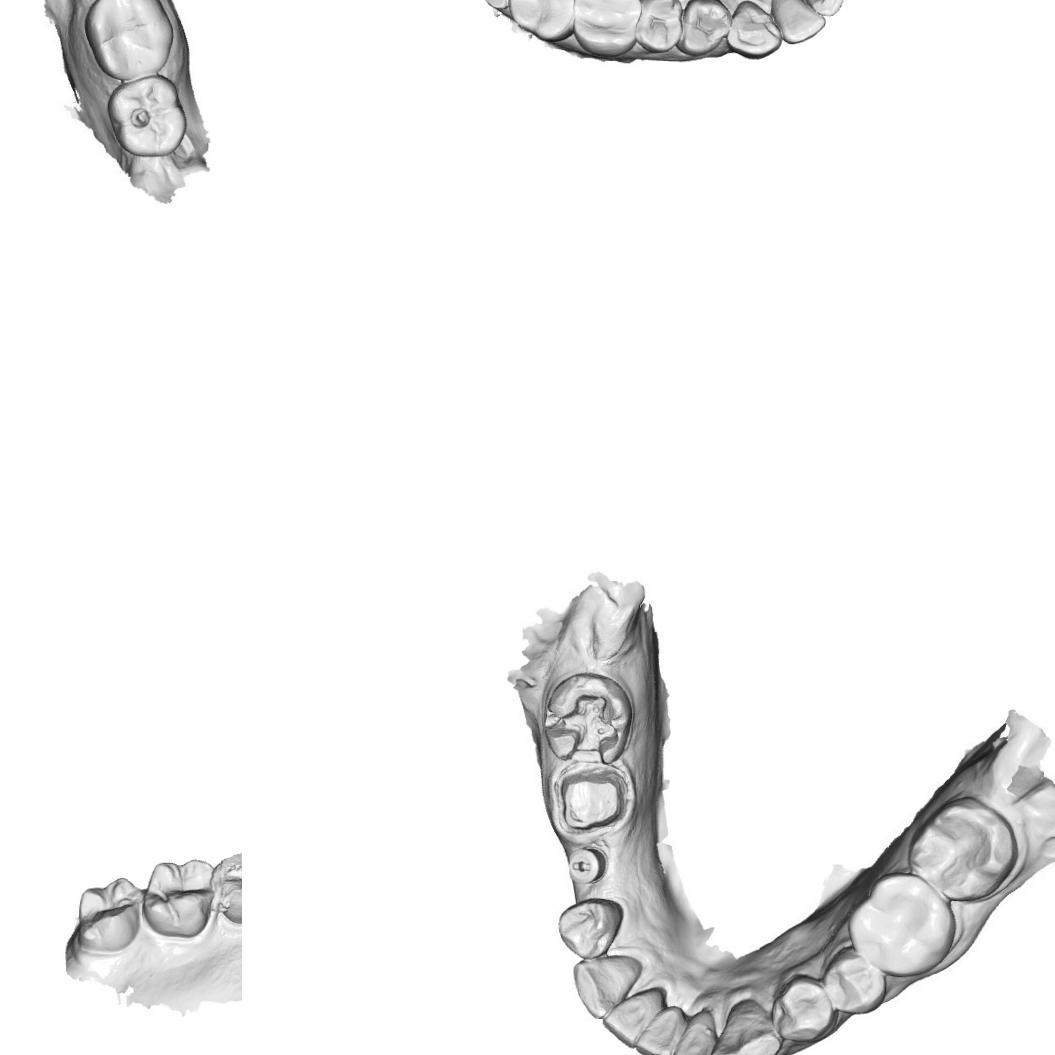canine: (569, 952, 632, 1022), (724, 0, 782, 61), (708, 1008, 780, 1055)
crown: (554, 762, 634, 836)
implant_minus: (564, 838, 608, 888)
incisor: (599, 986, 662, 1050), (632, 1002, 686, 1055), (768, 0, 828, 46), (671, 1018, 718, 1055), (790, 0, 853, 17)
inlay: (543, 686, 628, 766)
molar: (906, 793, 1020, 908), (843, 871, 953, 978), (85, 0, 175, 80), (140, 856, 216, 940), (109, 78, 184, 160), (75, 873, 144, 956), (571, 0, 642, 60), (505, 0, 577, 45)
premolar: (820, 948, 888, 1016), (770, 978, 836, 1046), (556, 896, 624, 962), (675, 0, 732, 59), (635, 0, 682, 55), (208, 850, 242, 925)
